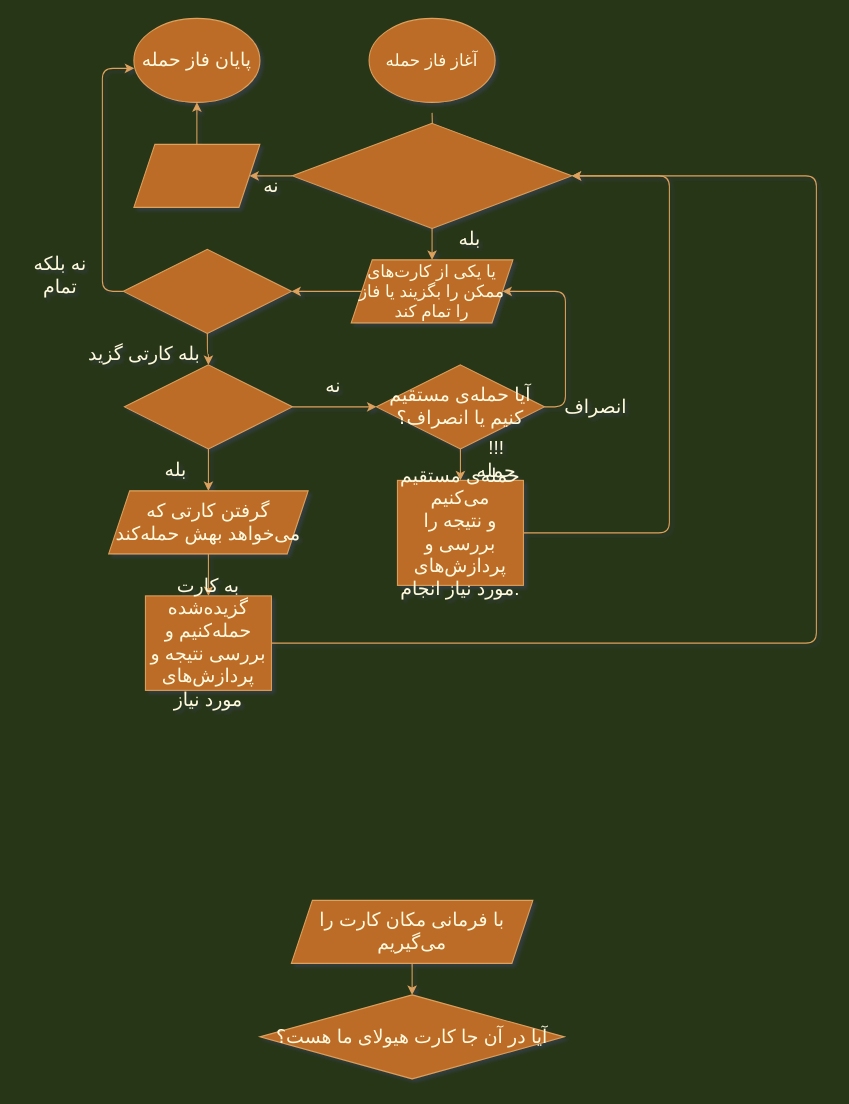
Image size: 849x1104. Some labels were removed from this diagram. The centre of each missing label's shape, as x and y in pixels:
"آیا کارت هیولایی در زمین به حالت حمله داریم که در این دست حمله نکرده‌باشد؟" goes at point (431, 175).
"آیا کارت هیولایی در زمین حرف است؟" goes at point (207, 406).
"آیا کارتی گزید؟ -یا این که تمام؟" goes at point (206, 290).
"شما در این دست کارتی برای حمله ندارید." goes at point (196, 175).
